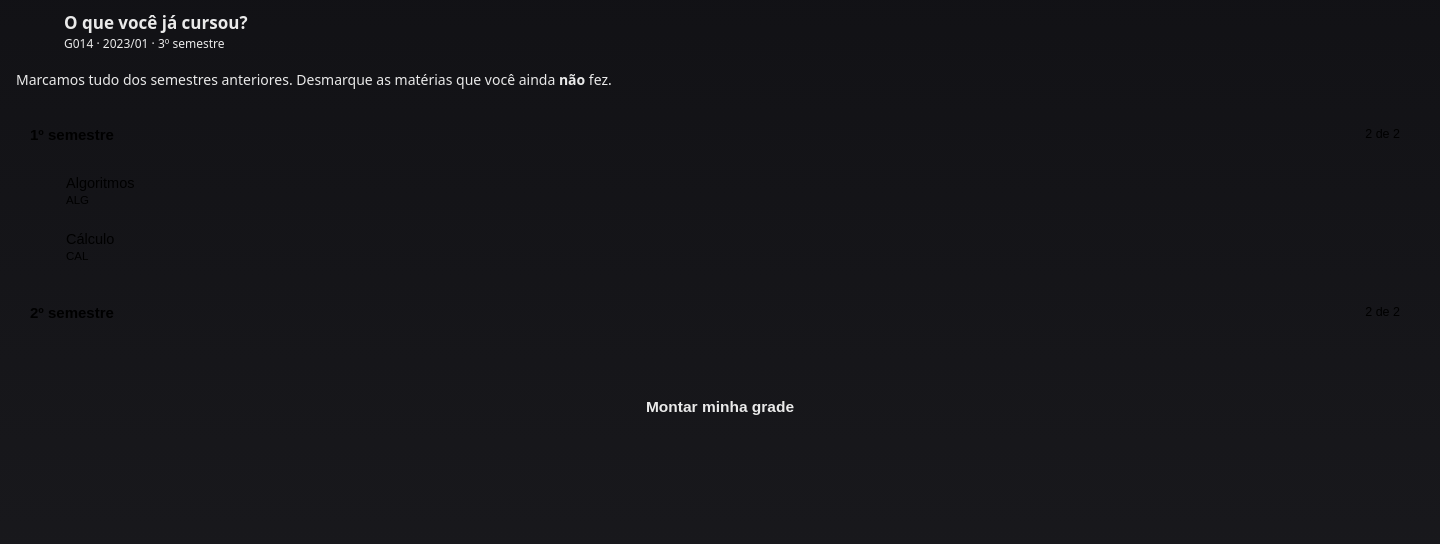
Test case: desmarcar uma matéria desmarca as que dependem dela e avisa
The image size is (1440, 544).
Click the button "2º semestre 2 de 2". click: (76, 312)
box: [16,284,1424,340]
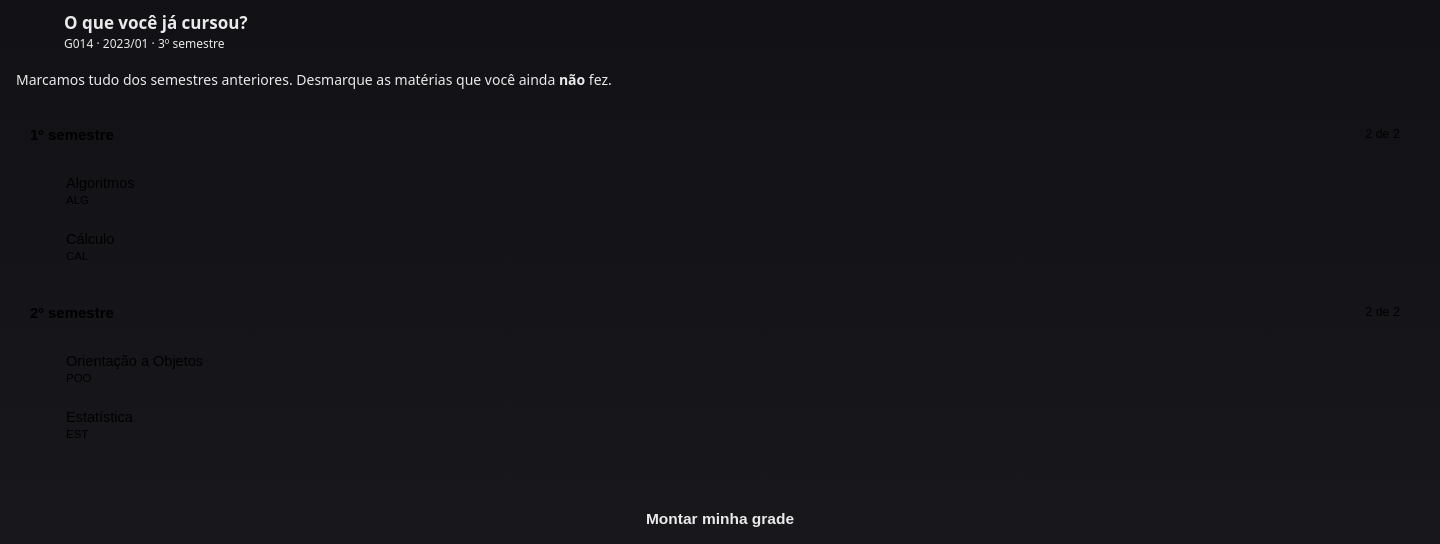
Click the checkbox labelled "Algoritmos ALG". click: (100, 183)
box: [16,162,1424,218]
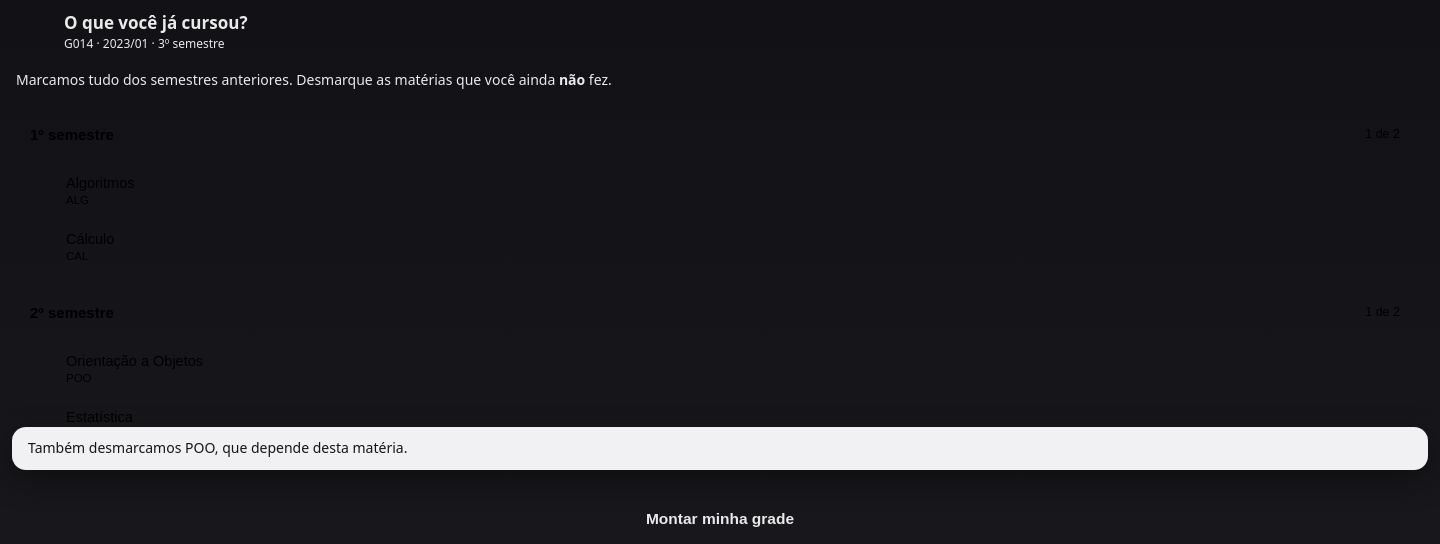
Expected: the message shows "Também desmarcamos POO, que depende desta matéria", [28,438,407,457]
